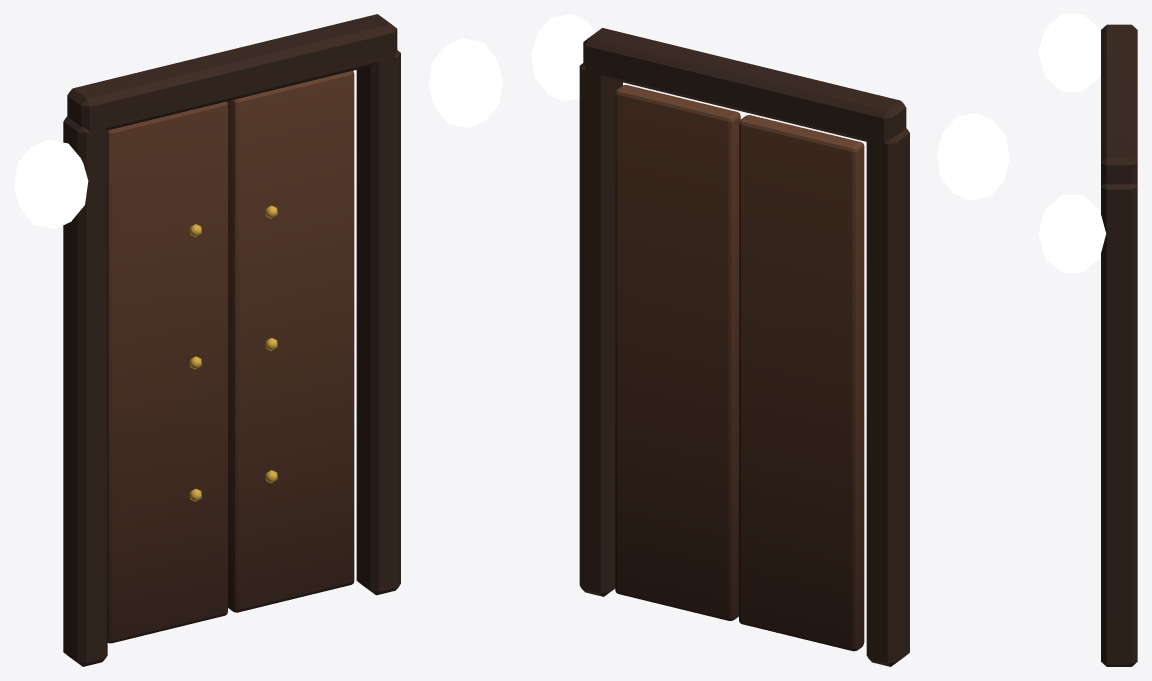
Rendered from door_wood.glb.
3 views of the same model, side by side, from view 1: azimuth 30°, elevation 25°; view 2: azimuth 150°, elevation 25°; view 3: azimuth 270°, elevation 25° (orthographic). The views are drawn at different scales.
Visible parts, largest first — view 1: Door, Glow; view 2: Door, Glow; view 3: Door, Glow.
Boxes of the visible parts, x1,y1,x2,y2 form: Door: [63, 14, 400, 666]; Glow: [14, 38, 502, 228]; Door: [579, 28, 909, 666]; Glow: [531, 14, 1009, 200]; Door: [1101, 24, 1137, 666]; Glow: [1038, 14, 1106, 272].
Size of the model in its own units: 1.89 by 2.14 by 0.38.
